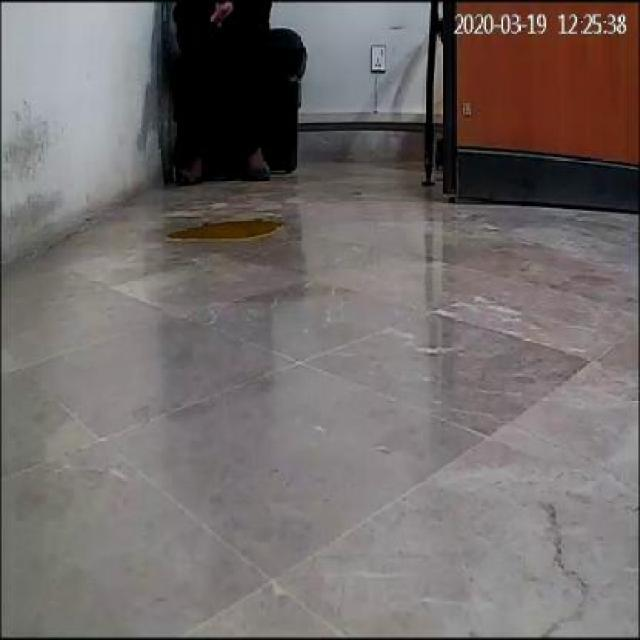spill: (168, 215, 297, 248)
